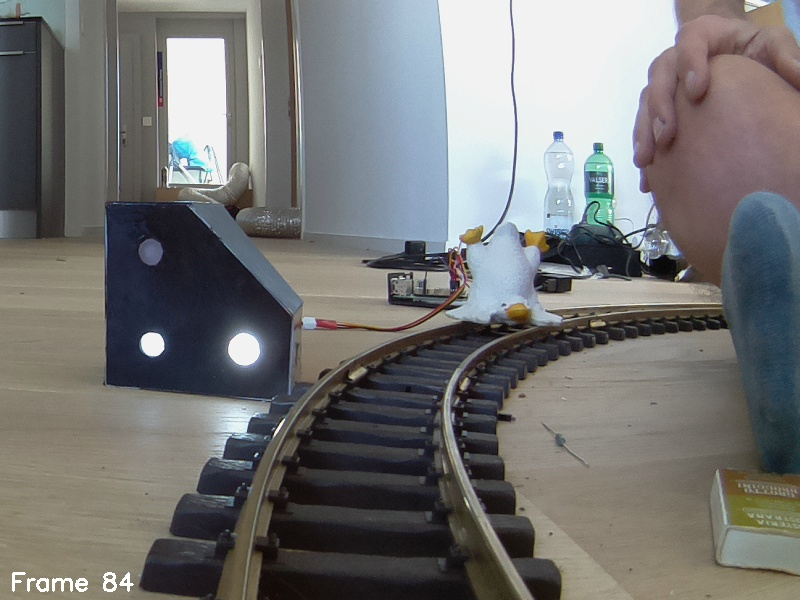Ente: (444, 221, 567, 333)
Halt: (103, 200, 290, 401)
